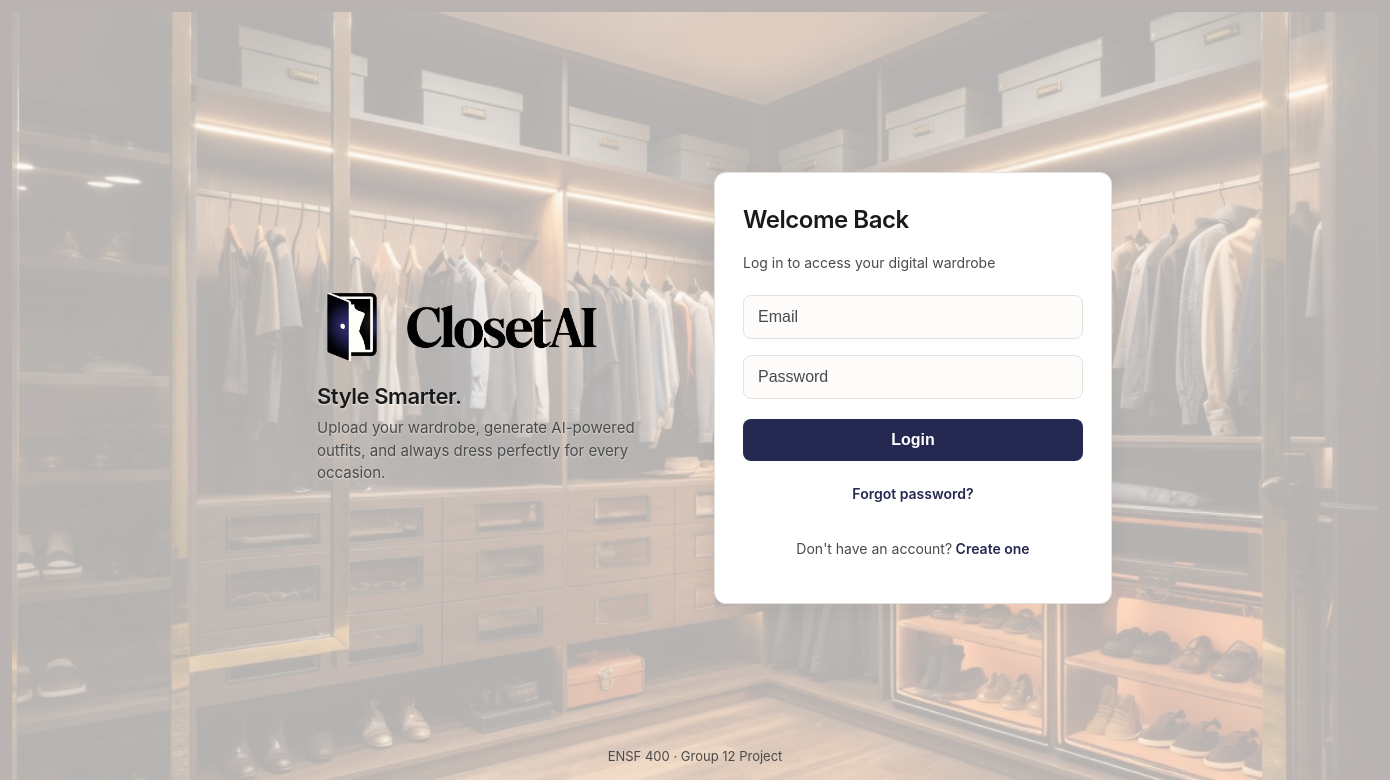
Test case: Login Page › shows error if password is empty
The image size is (1390, 780).
In the field with placeholder "Email": (913, 317) [743,295,1083,339], type "test@test.com"
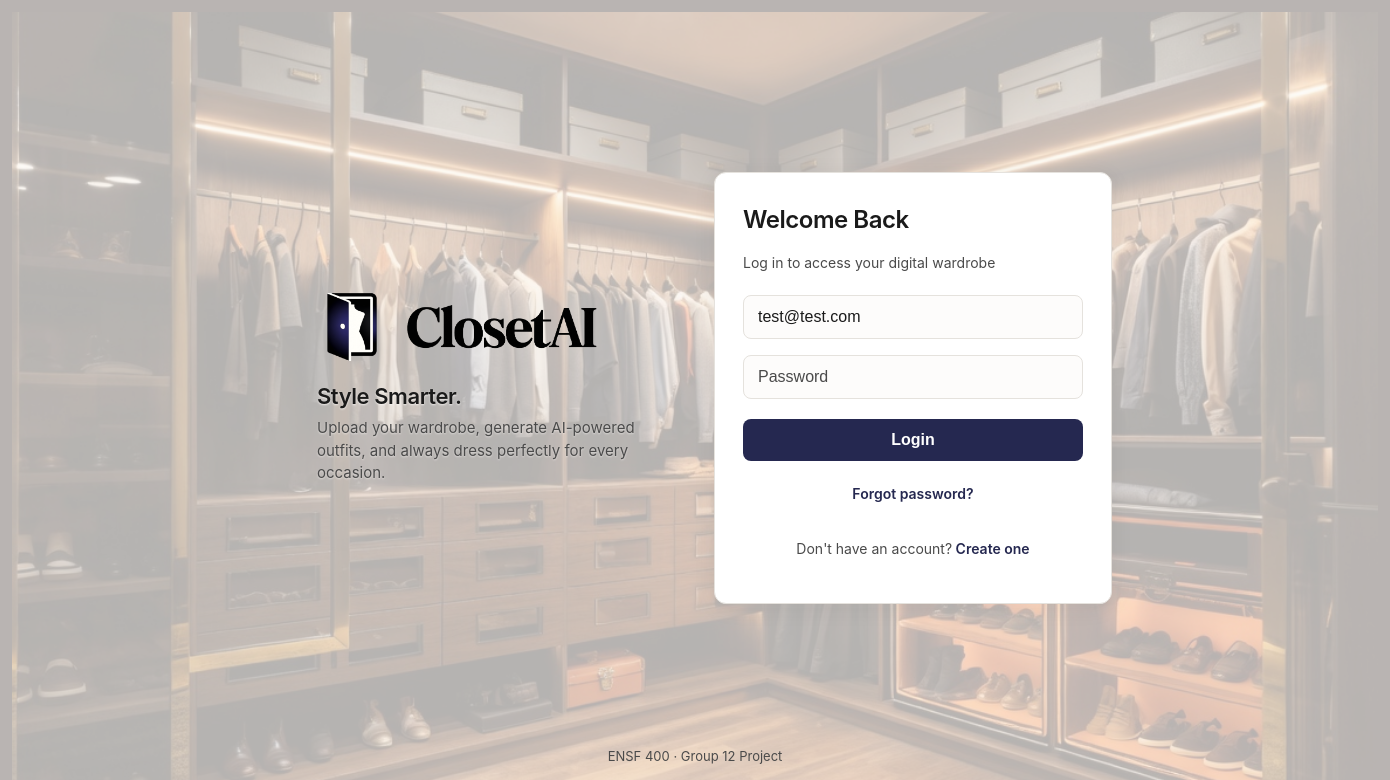
Click the button "Login": (913, 440) [743,419,1083,461]
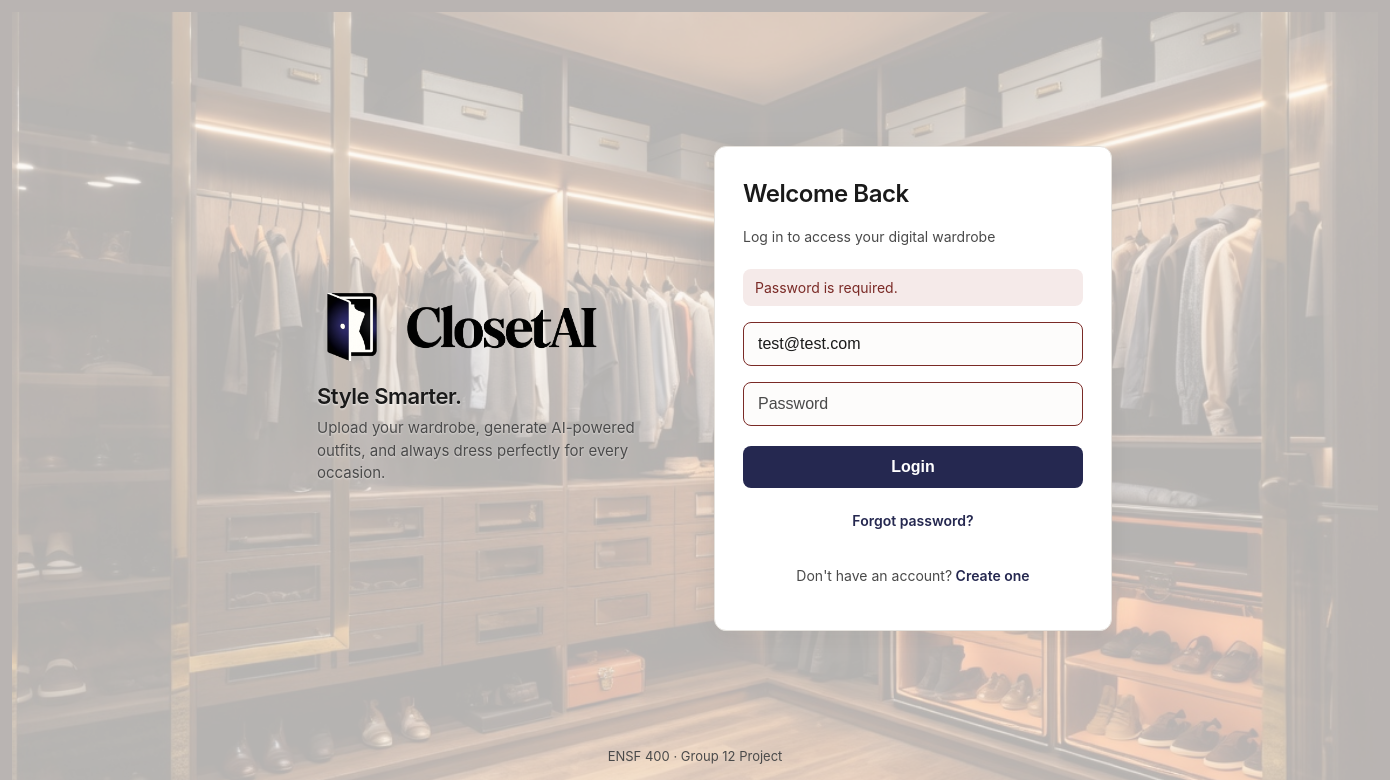
Now the text "Password is required." is shown, box [743,268,1083,306]
